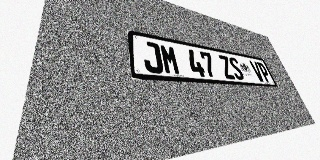4: (185, 49, 206, 77)
7: (198, 51, 218, 78)
J: (141, 40, 164, 74)
M: (159, 44, 181, 75)
P: (256, 62, 272, 82)
S: (227, 56, 245, 80)
V: (249, 60, 265, 82)
Z: (217, 55, 236, 79)
